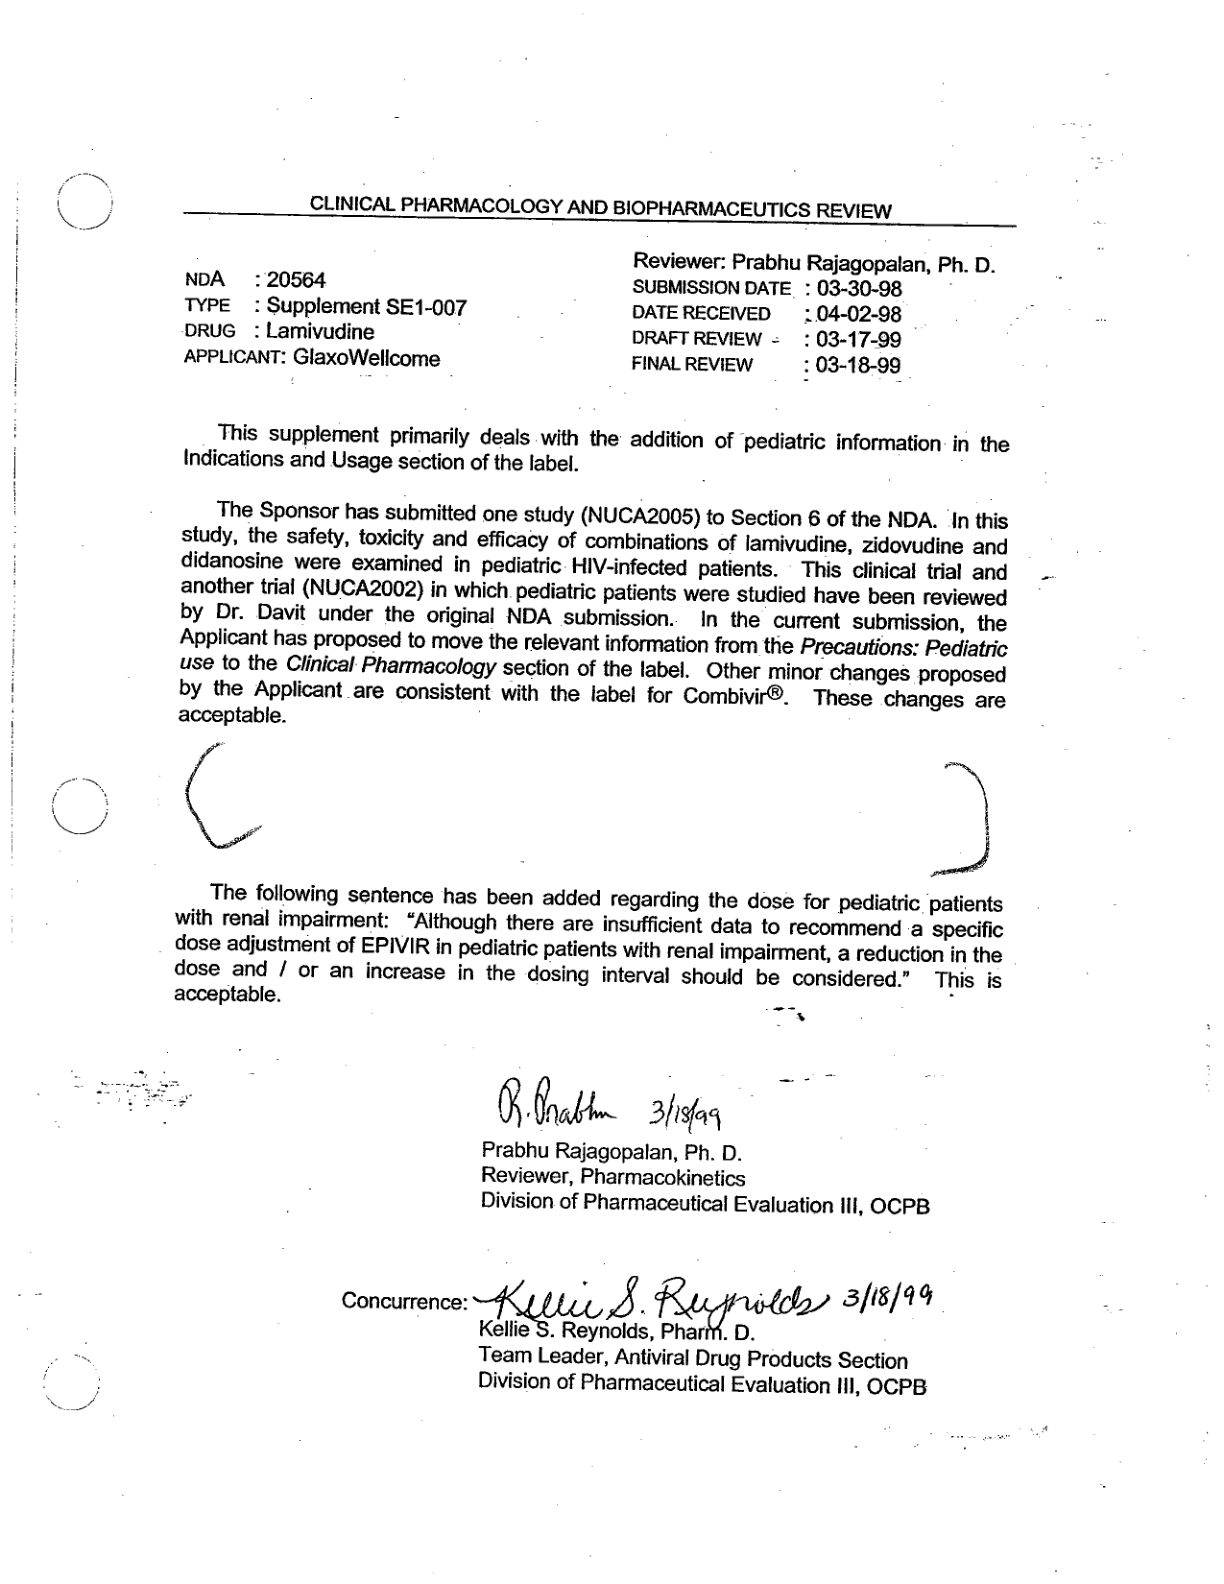nolines: (180, 246, 996, 377)
